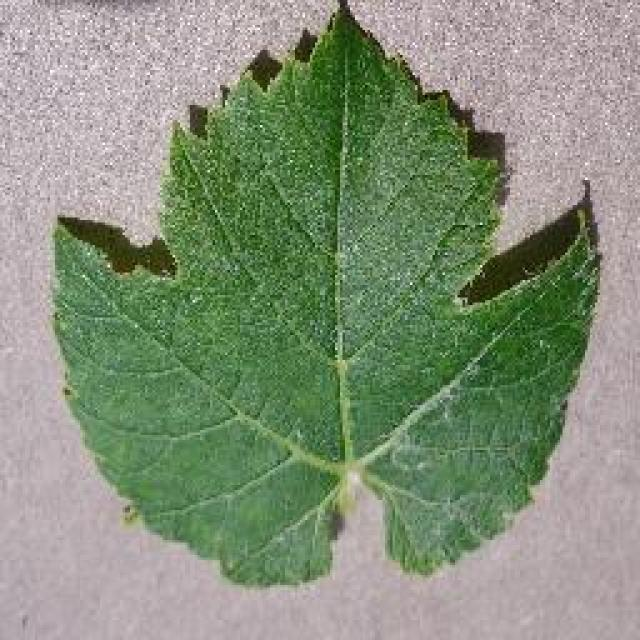Grape___healthy: (41, 0, 602, 598)
